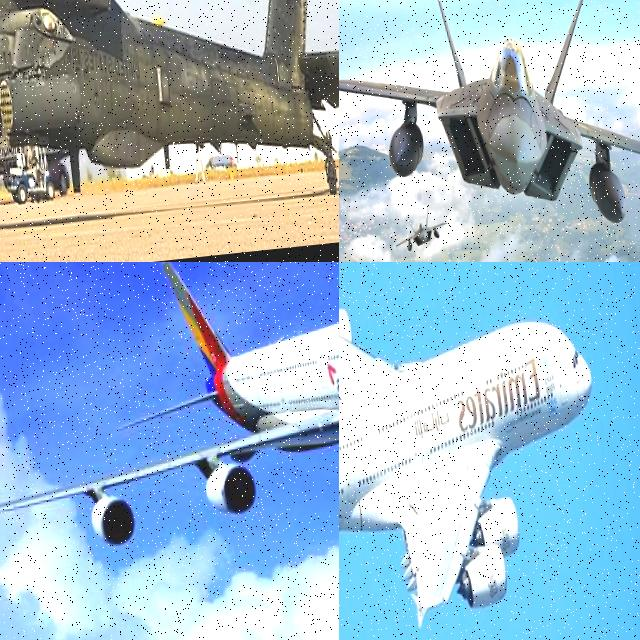A380: (339, 262, 622, 640), (0, 262, 339, 558)
Apache: (0, 0, 339, 241)
F22: (339, 0, 640, 247), (392, 209, 451, 259)
